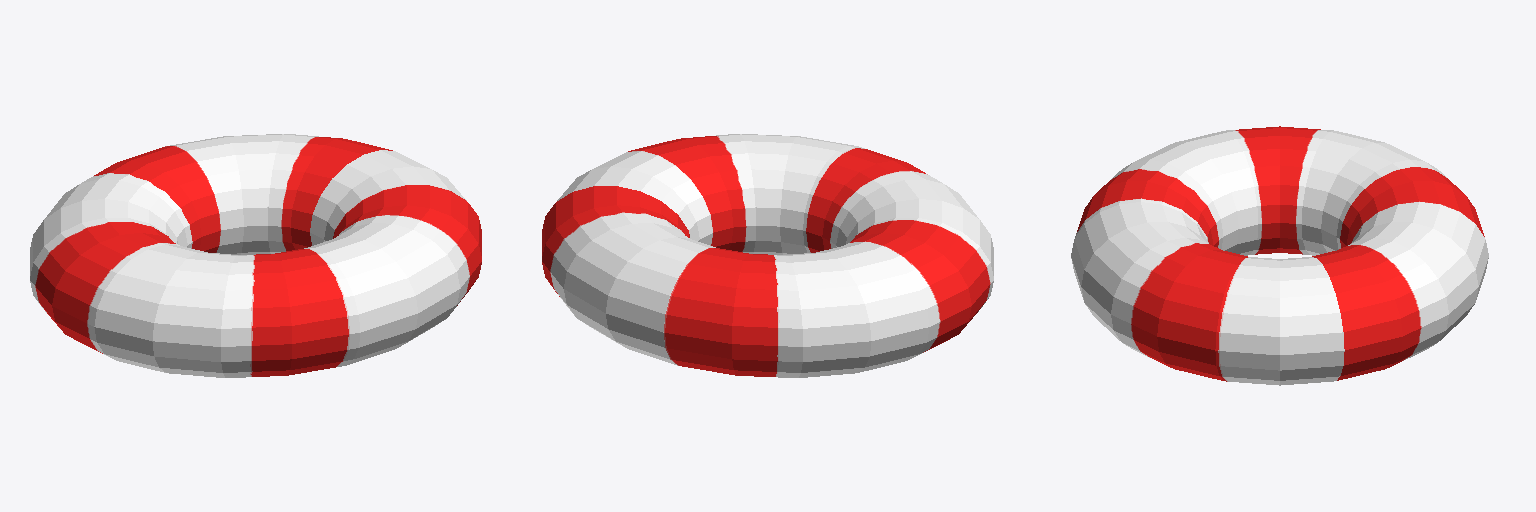
3 renders of one model, left to right at view 1: azimuth 30°, elevation 25°; view 2: azimuth 150°, elevation 25°; view 3: azimuth 270°, elevation 25°, orthographic.
Parts seen in each view (by area): view 1: pTorus1; view 2: pTorus1; view 3: pTorus1.
Part boxes in pixels (x1,y1,x2,y2): pTorus1: (30, 134, 481, 377); pTorus1: (542, 134, 993, 377); pTorus1: (1071, 126, 1488, 385).
Bounding box in the file's own units: 6.39 × 1.62 × 5.67.
1 materials, 1 textured.